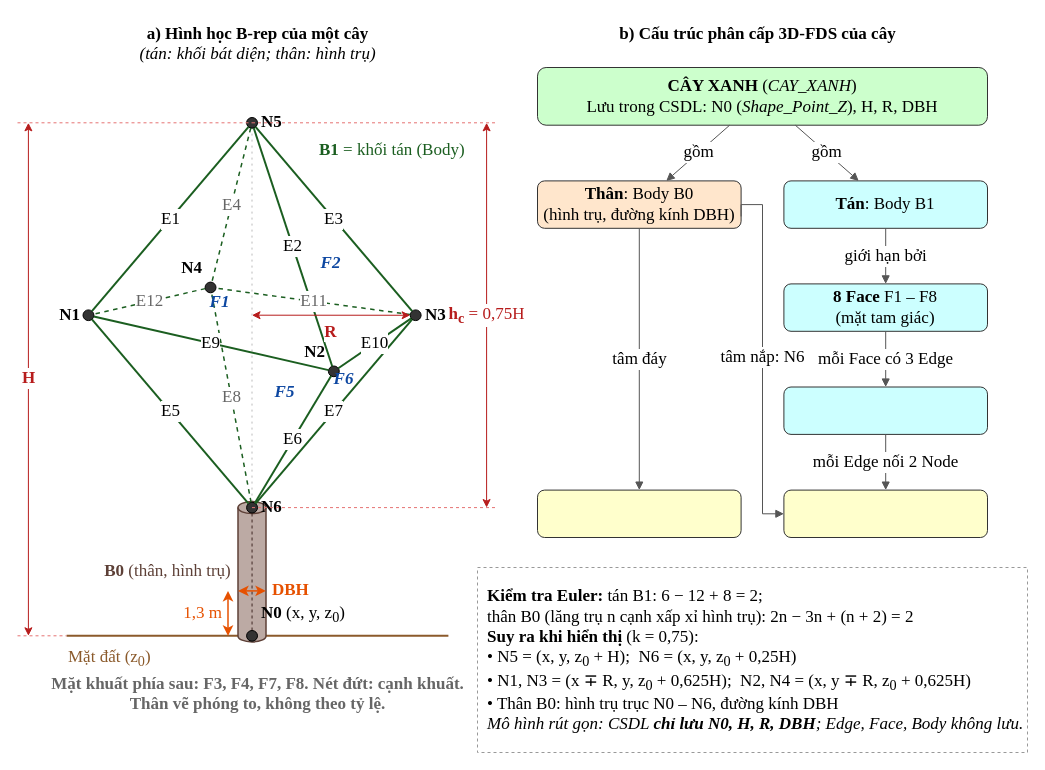
This 1045x770 diagram has some shape labels left out. The shapes that lost their labels are listed below. From the top down, each one's centre as x and y in pixels, then its label:
At pixel 885 410: "12 Edge E1 – E12".
At pixel 638 513: "Node N0 (tâm đáy thân)".
At pixel 885 513: "6 Node N1 – N6".
